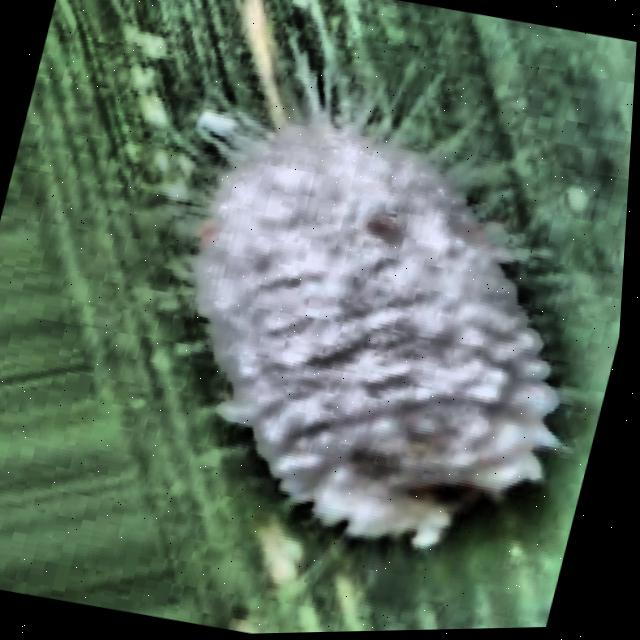Mealy-bug: (12, 21, 639, 639)
